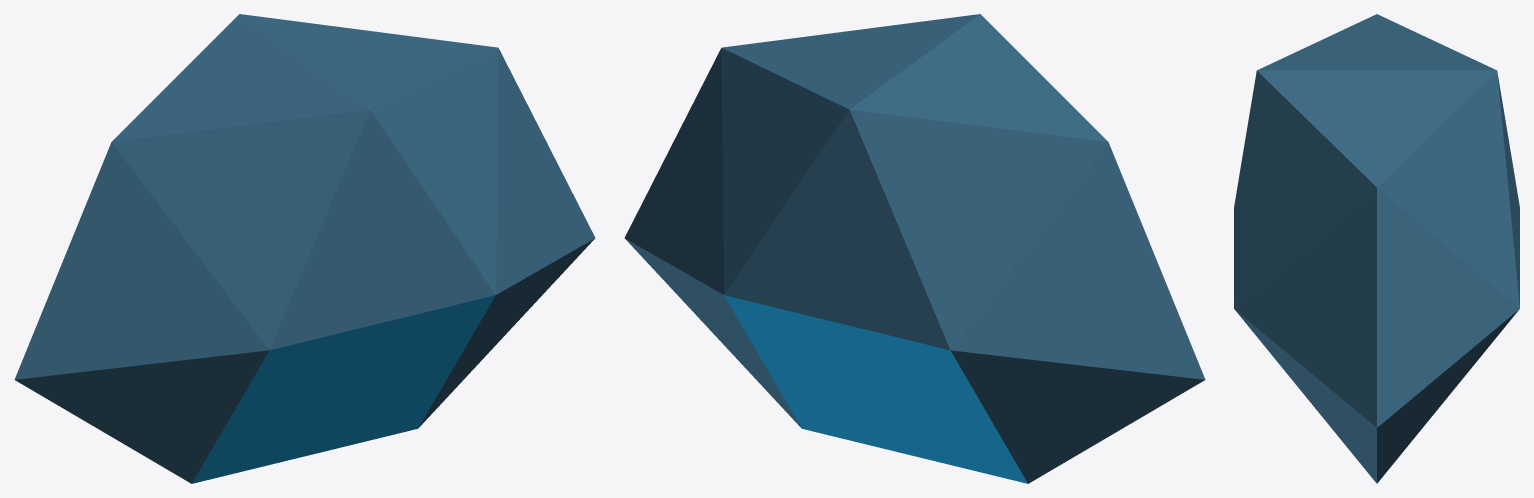
File: J88.Esfenomegacorona.gltf
3 renders of one model, left to right at view 1: azimuth 30°, elevation 25°; view 2: azimuth 150°, elevation 25°; view 3: azimuth 270°, elevation 25°, orthographic. The views are drawn at different scales.
Parts seen in each view (by area): view 1: J88.Esfenomegacorona; view 2: J88.Esfenomegacorona; view 3: J88.Esfenomegacorona.
Boxes of the visible parts, x1,y1,x2,y2 form: J88.Esfenomegacorona: [14, 14, 595, 483]; J88.Esfenomegacorona: [624, 14, 1205, 483]; J88.Esfenomegacorona: [1234, 14, 1519, 483].
Size of the model in its own units: 19.8 by 12.85 by 9.18.
